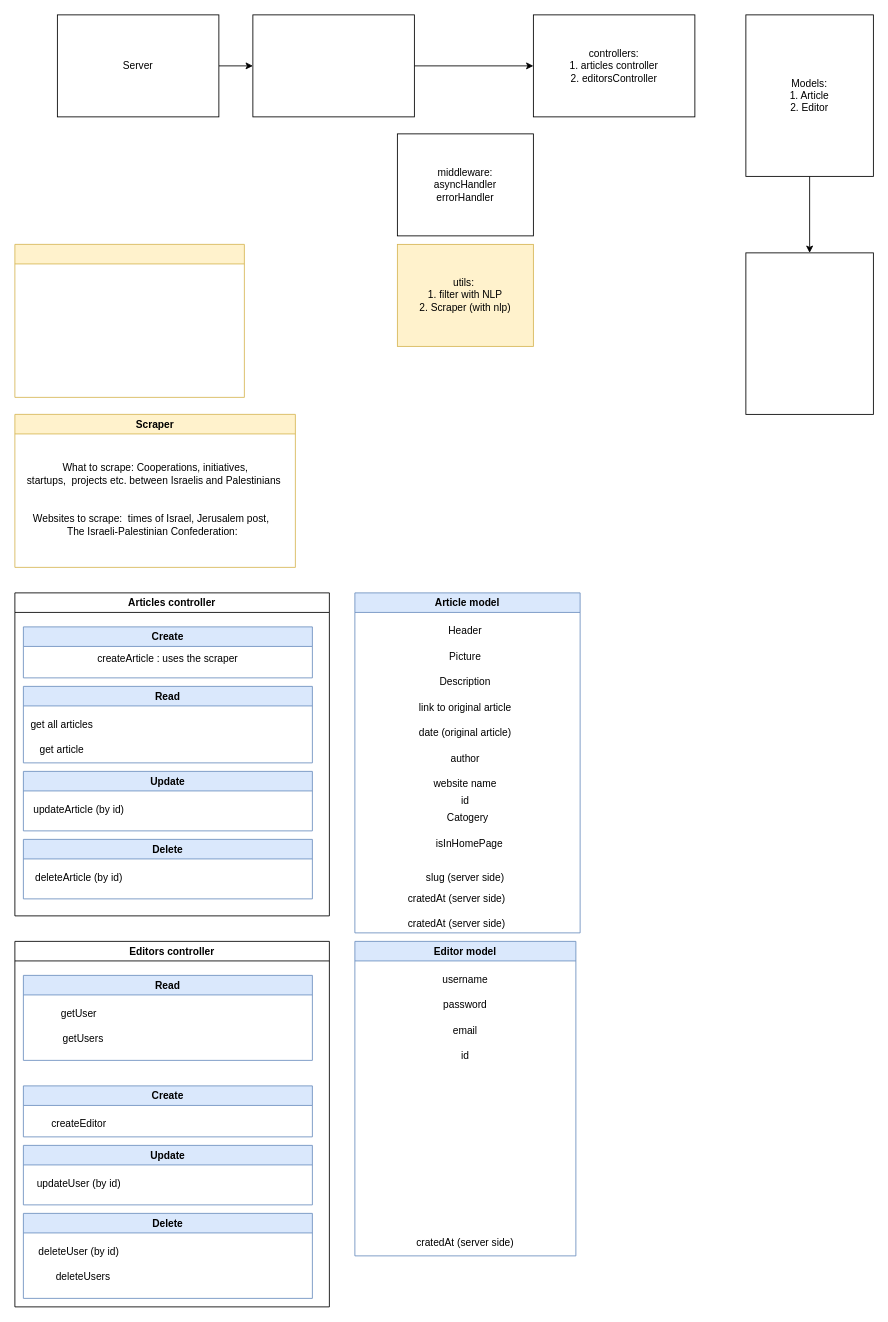
Image size: 888x1322. Some labels were removed from this diagram. The shapes that lost their labels are listed below. From the top down, each one's centre as x and y in pixels, then its label:
(333,65): routes: 1. articlesRoute 2. editorsRoute
(129,320): NLP filter function
(809,333): DB: 1. articles 2. Users (admins)
